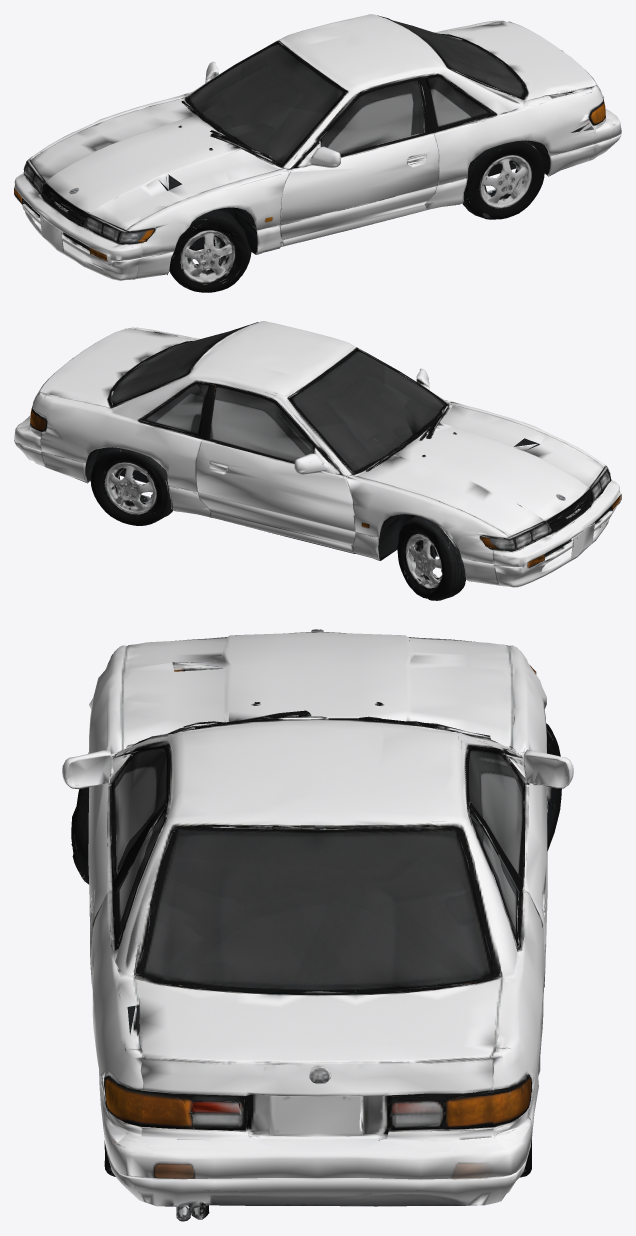
3 views of the same model, one above another, from view 1: azimuth 30°, elevation 25°; view 2: azimuth 150°, elevation 25°; view 3: azimuth 270°, elevation 25° (orthographic). The views are drawn at different scales.
Size of the model in its own units: 0.9526 by 0.2725 by 0.4009.
1 material, 1 textured.
